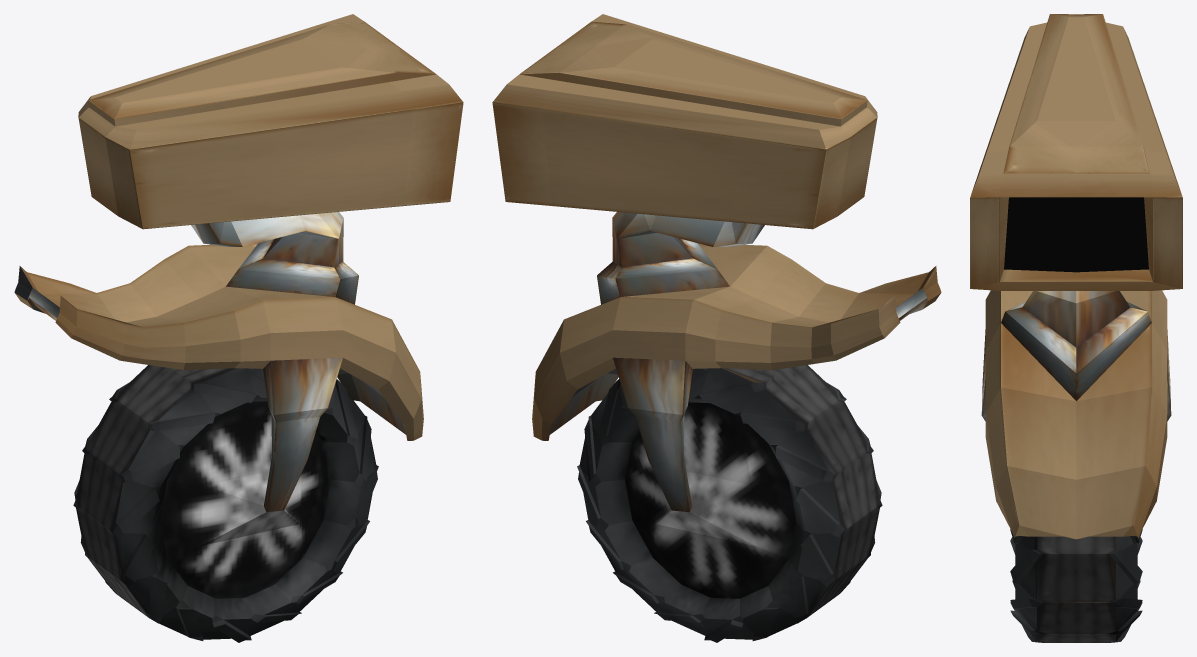
The model's file is gaurdsmen_model.fbx.
3 views of the same model, side by side, from view 1: azimuth 30°, elevation 25°; view 2: azimuth 150°, elevation 25°; view 3: azimuth 270°, elevation 25° (orthographic).
Parts seen in each view (by area): view 1: Cube.002, Cube.001, Object; view 2: Cube.002, Cube.001, Object; view 3: Cube.001, Cube.002, Object.
Boxes of the visible parts, x1,y1,x2,y2 form: Cube.002: (14, 239, 423, 598); Cube.001: (78, 14, 463, 267); Object: (73, 365, 378, 642); Cube.002: (532, 239, 941, 598); Cube.001: (492, 14, 877, 267); Object: (577, 365, 882, 642); Cube.001: (970, 14, 1182, 347); Cube.002: (981, 290, 1171, 539); Object: (1010, 529, 1142, 642).
Bounding box in the file's own units: 286 × 402 × 138.
